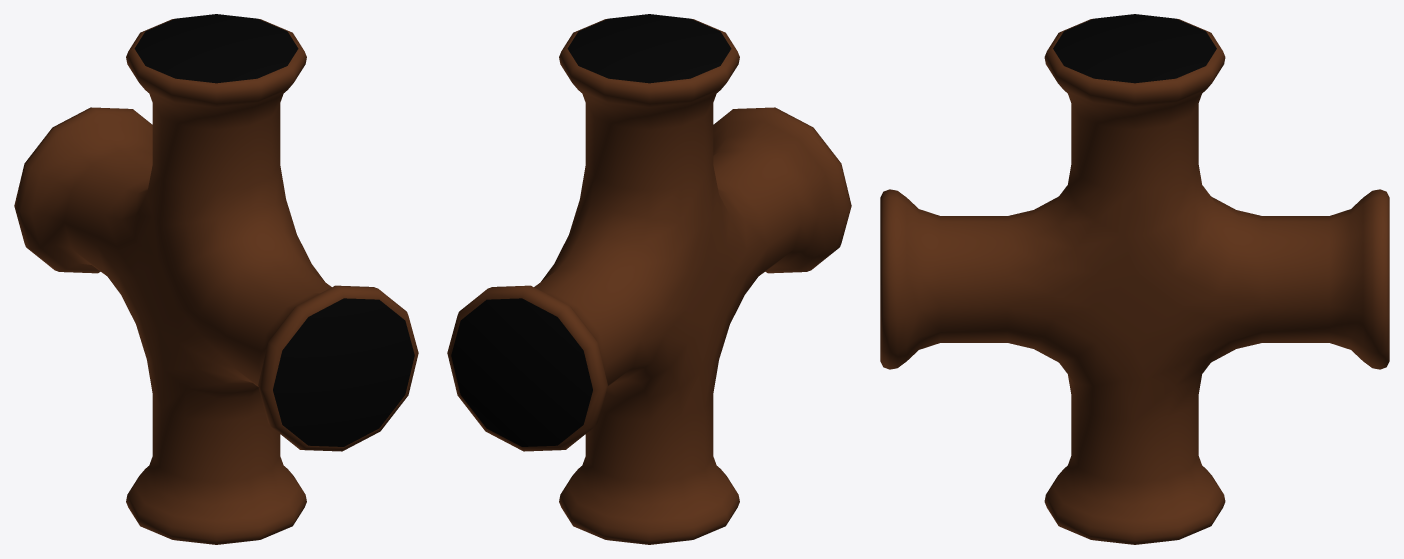
File: Pipe_Plus_2m.fbx
3 views of the same model, side by side, from view 1: azimuth 30°, elevation 25°; view 2: azimuth 150°, elevation 25°; view 3: azimuth 270°, elevation 25° (orthographic).
Visible parts, largest first — view 1: Pipe_Plus_2m; view 2: Pipe_Plus_2m; view 3: Pipe_Plus_2m.
Part boxes in pixels (<box>): Pipe_Plus_2m: <box>14,14,418,544</box>; Pipe_Plus_2m: <box>447,14,851,544</box>; Pipe_Plus_2m: <box>880,14,1389,544</box>.
Bounding box in the file's own units: 71.06 × 200 × 200.
